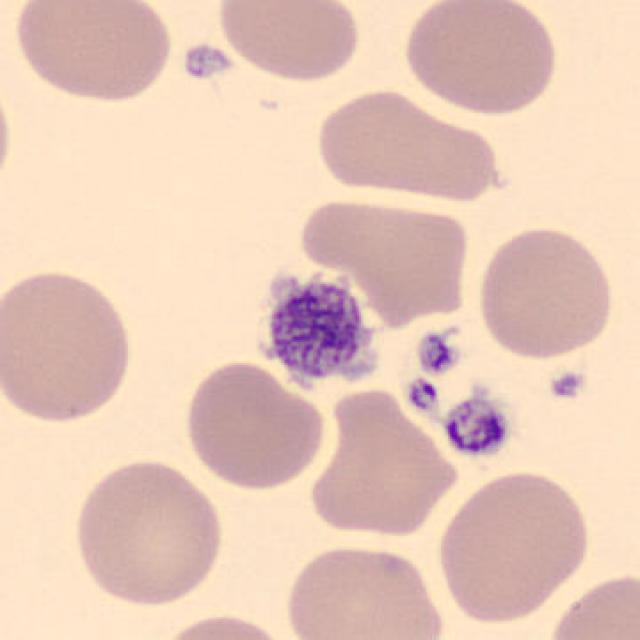Platelets: (249, 261, 389, 402), (439, 391, 516, 462), (414, 328, 462, 377), (180, 41, 231, 81), (546, 366, 586, 404), (403, 376, 441, 414)
RBC: (432, 465, 594, 626), (304, 383, 462, 541), (70, 455, 228, 610), (295, 192, 475, 324), (311, 84, 505, 204), (0, 262, 140, 428), (179, 356, 329, 494), (473, 222, 619, 363), (398, 0, 562, 118), (9, 0, 176, 106), (281, 539, 448, 640), (213, 0, 364, 83), (540, 566, 638, 640), (147, 610, 300, 640), (0, 67, 16, 206)
